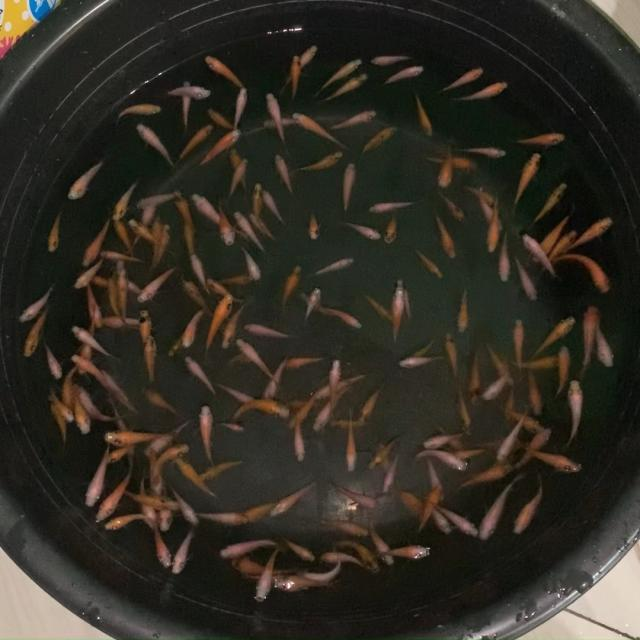nila: (474, 472, 526, 544), (172, 266, 222, 318), (555, 252, 615, 292), (532, 208, 577, 260), (200, 290, 236, 354), (512, 472, 544, 539), (247, 544, 282, 605), (527, 181, 570, 230), (142, 414, 192, 456), (311, 380, 349, 435), (94, 468, 131, 524), (534, 228, 575, 278), (564, 213, 616, 251), (530, 314, 577, 356), (232, 338, 278, 380), (433, 500, 481, 540), (313, 367, 370, 400), (579, 300, 603, 378), (518, 235, 560, 279), (74, 323, 120, 363), (67, 156, 106, 202), (336, 539, 382, 578), (82, 216, 115, 270), (281, 42, 318, 90), (74, 386, 126, 420), (512, 150, 542, 208), (107, 398, 138, 454), (254, 351, 288, 402), (236, 208, 271, 256), (176, 458, 218, 498), (194, 403, 222, 463), (126, 484, 186, 512), (232, 398, 292, 426), (100, 368, 138, 412), (494, 411, 526, 463), (294, 110, 340, 146), (135, 123, 175, 164), (179, 353, 218, 395), (197, 128, 240, 166), (129, 218, 176, 252), (18, 280, 54, 324), (318, 58, 364, 92), (562, 379, 585, 447), (367, 518, 397, 570), (274, 479, 316, 516), (68, 380, 95, 437), (76, 314, 100, 378), (217, 535, 280, 559), (526, 448, 582, 475), (203, 273, 250, 305), (197, 454, 244, 486), (330, 482, 380, 512), (125, 201, 156, 249), (281, 412, 310, 462), (86, 450, 110, 510), (217, 299, 244, 352), (516, 425, 550, 467), (319, 74, 366, 104), (110, 179, 142, 223), (110, 261, 132, 325), (440, 64, 490, 92), (24, 302, 48, 360), (449, 82, 509, 105), (355, 124, 398, 156), (367, 432, 404, 469), (266, 92, 288, 154), (206, 52, 246, 86), (456, 466, 508, 492), (416, 484, 444, 532), (416, 448, 472, 472), (476, 184, 504, 232), (357, 380, 388, 423), (179, 123, 214, 161), (434, 137, 458, 192), (104, 428, 177, 446), (173, 527, 198, 579), (138, 264, 174, 300), (46, 392, 70, 446), (73, 352, 111, 386), (210, 377, 256, 405), (142, 385, 182, 417), (153, 441, 194, 472), (338, 159, 361, 214), (485, 195, 505, 258), (169, 488, 202, 526), (102, 508, 148, 535), (150, 486, 177, 532), (138, 331, 160, 387), (142, 445, 166, 496), (271, 578, 339, 596), (114, 100, 161, 126), (432, 218, 461, 260), (192, 188, 224, 226), (424, 458, 449, 506), (132, 483, 158, 529), (412, 248, 448, 281), (396, 485, 428, 522), (420, 153, 482, 172), (318, 548, 363, 574), (433, 190, 468, 223), (82, 276, 105, 326), (523, 366, 546, 416), (279, 259, 302, 309), (288, 392, 316, 433), (150, 522, 172, 574), (106, 272, 127, 326), (192, 509, 248, 529), (332, 306, 372, 334), (488, 349, 518, 386), (225, 156, 250, 200), (328, 109, 378, 131), (46, 204, 68, 254), (271, 154, 299, 193), (242, 318, 294, 339), (242, 498, 281, 526), (339, 417, 358, 474), (516, 255, 539, 302), (504, 408, 542, 436), (296, 150, 342, 173), (72, 258, 105, 290), (363, 289, 395, 322), (512, 130, 570, 148), (138, 186, 178, 212), (114, 272, 154, 298), (236, 240, 262, 280), (299, 561, 342, 585), (381, 543, 437, 561), (314, 254, 356, 278), (318, 516, 368, 536), (484, 368, 514, 401), (282, 532, 316, 561), (111, 220, 138, 256), (38, 338, 62, 378), (249, 210, 278, 243), (423, 504, 452, 537), (180, 307, 202, 350), (380, 450, 401, 495), (454, 284, 472, 336), (326, 360, 342, 418), (433, 419, 466, 447), (264, 188, 287, 228), (390, 277, 404, 342), (283, 351, 326, 372), (150, 213, 166, 269), (496, 230, 512, 286), (382, 65, 426, 85), (229, 88, 251, 128), (594, 328, 616, 368), (414, 92, 434, 136), (97, 311, 148, 328), (216, 200, 234, 248), (50, 386, 74, 422), (555, 346, 571, 400), (444, 332, 462, 380), (230, 554, 272, 574), (345, 220, 383, 242), (61, 363, 78, 412), (368, 195, 417, 212), (299, 286, 322, 322), (375, 439, 399, 473), (156, 220, 172, 270), (455, 142, 505, 158), (468, 350, 483, 403), (172, 189, 196, 222), (230, 145, 247, 191), (459, 183, 498, 203), (507, 356, 562, 370), (418, 431, 466, 447), (382, 210, 401, 250), (100, 249, 146, 265), (105, 442, 132, 469), (178, 80, 192, 132), (190, 252, 208, 292), (454, 391, 474, 426), (204, 108, 235, 130), (287, 52, 301, 99), (248, 572, 289, 588), (397, 354, 447, 367), (512, 318, 526, 363), (83, 272, 117, 290), (304, 206, 321, 242), (261, 116, 299, 132), (324, 418, 374, 430), (138, 306, 152, 348), (402, 285, 419, 319), (166, 86, 214, 98), (249, 182, 261, 230), (502, 387, 520, 419), (216, 274, 262, 286), (214, 418, 248, 434), (410, 337, 437, 357), (371, 54, 414, 66), (281, 396, 322, 408), (248, 212, 268, 236), (452, 446, 486, 459), (184, 218, 194, 258), (168, 334, 182, 359)
